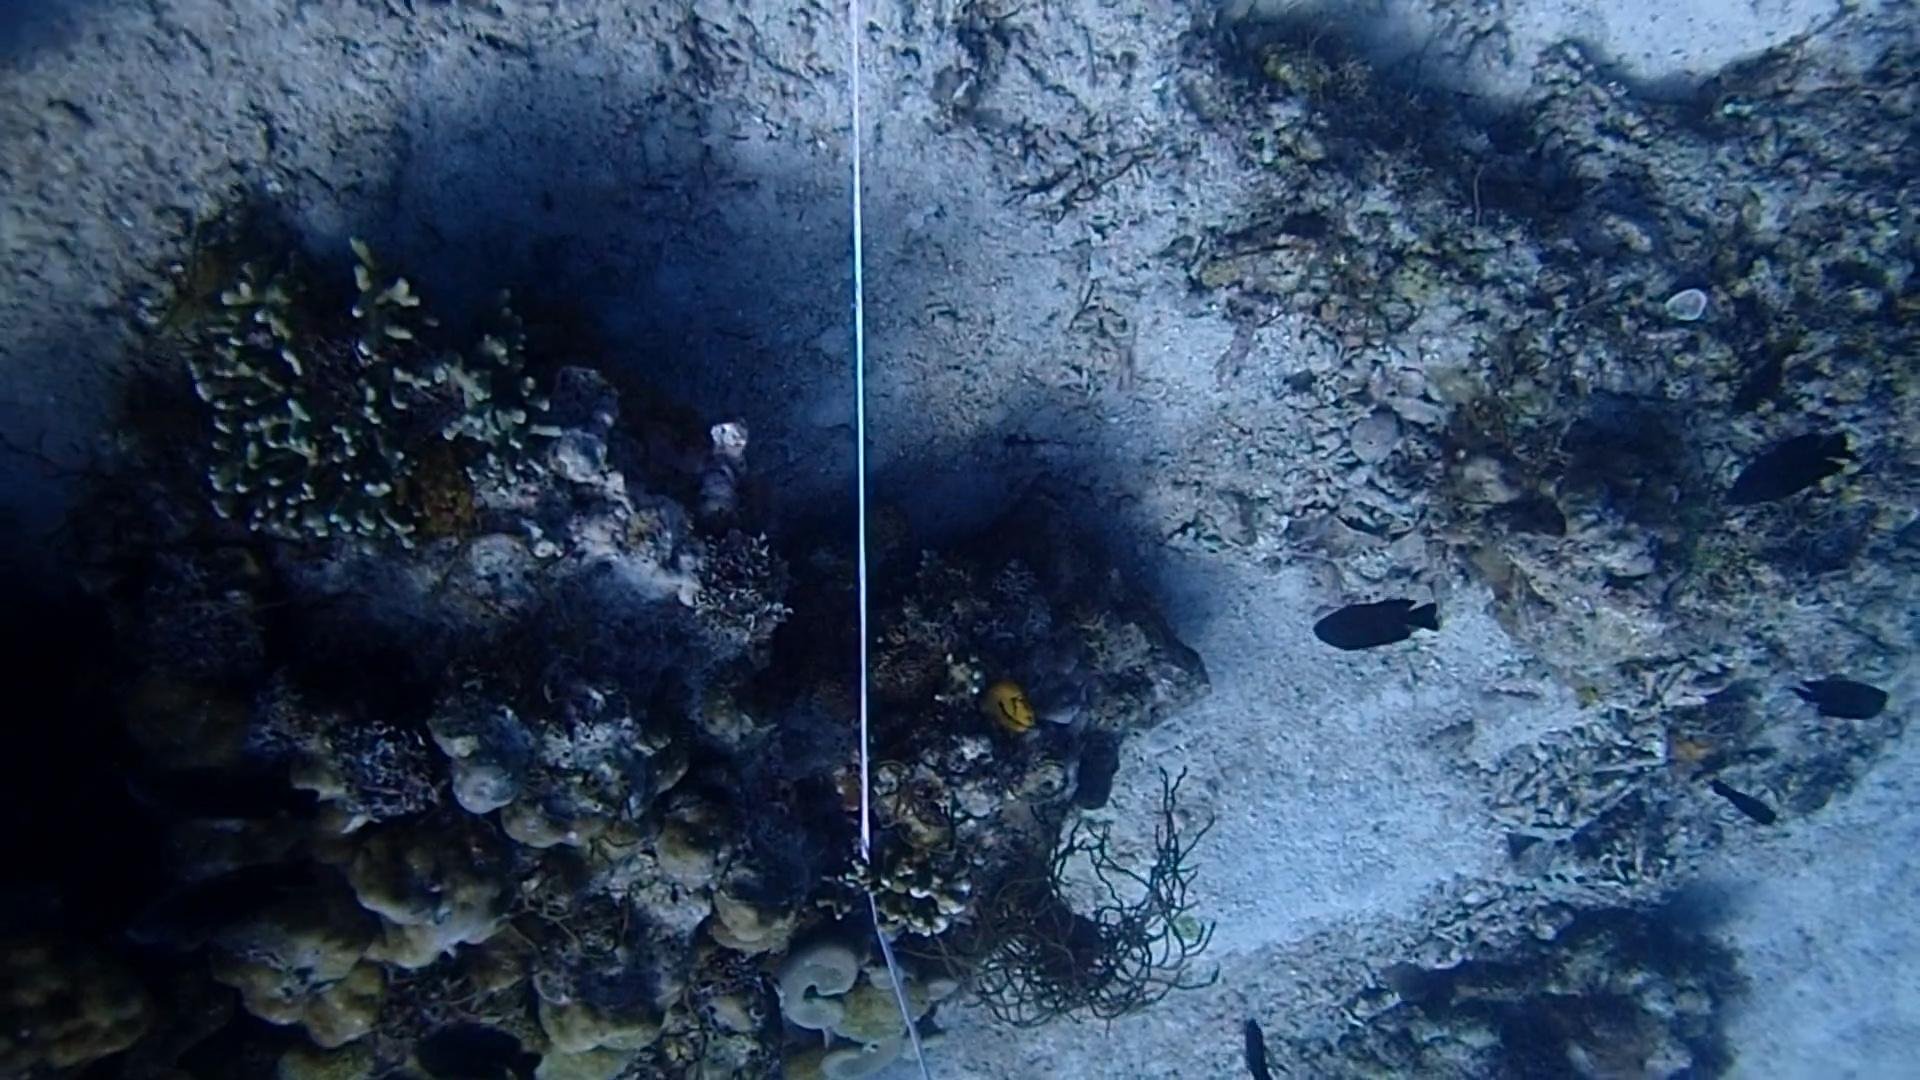Dark Fish: (1709, 430, 1857, 526), (1309, 574, 1457, 667), (1724, 332, 1807, 429), (1788, 666, 1907, 733), (1698, 777, 1784, 836), (1233, 1014, 1279, 1080)
